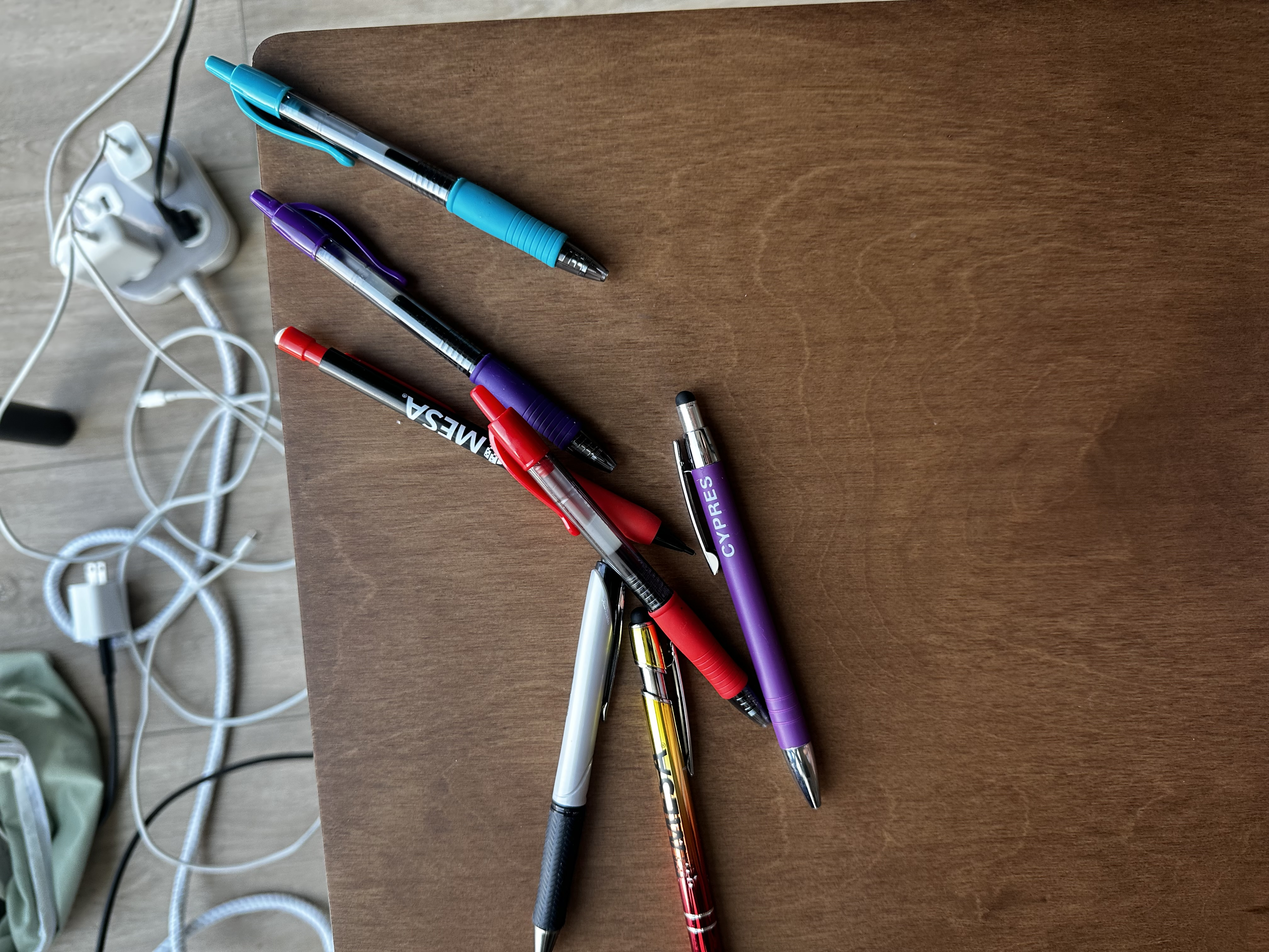Blue Pen: (203, 51, 616, 281)
MESA Multicolored pen: (627, 604, 729, 952)
Purple Pen: (249, 186, 617, 466), (671, 388, 817, 802)
Red Mechanical Pencil: (272, 323, 697, 551)
Red Pen: (467, 386, 767, 728)
Silver Pen: (528, 547, 621, 948)
